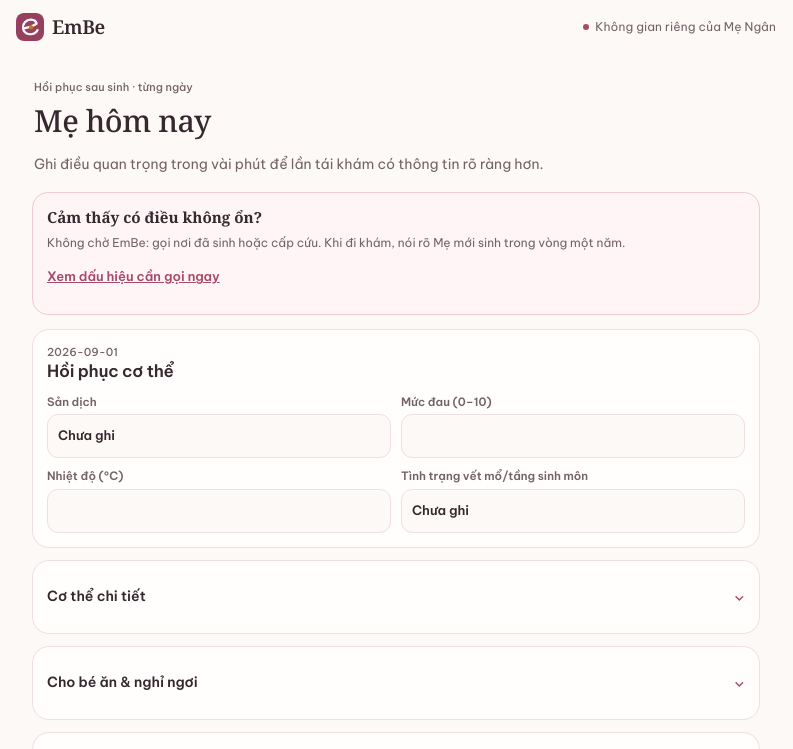
Scenario: mother postpartum page › saves one daily recovery entry
Select "Ít" in the dropdown labelled "Sản dịch" at (219, 436), box [47,414,391,458]
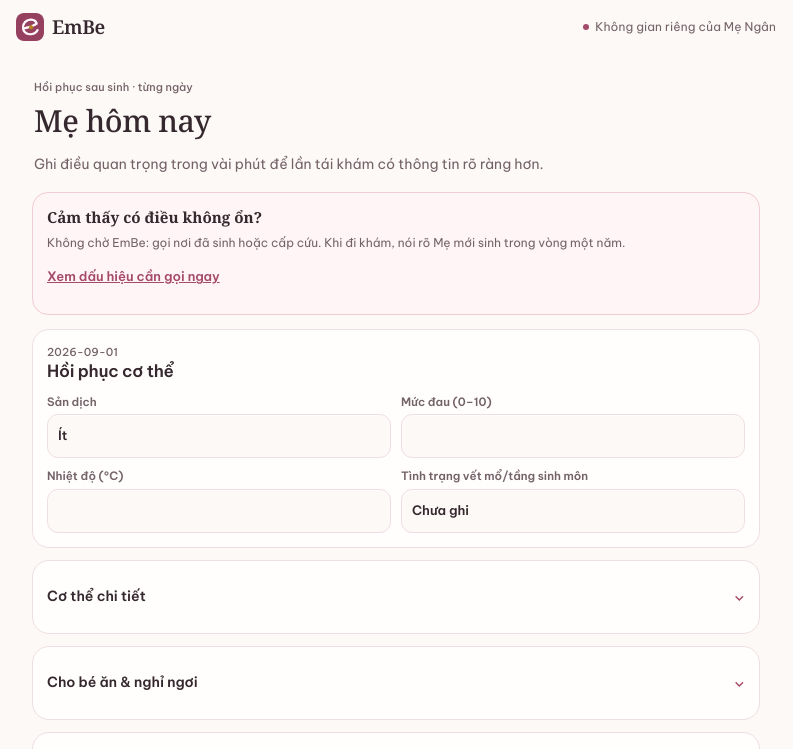
Type "2" into the number field labelled "Mức đau (0–10)".
click(573, 436); type("2")  # box [401,414,745,458]
(page scrolled)
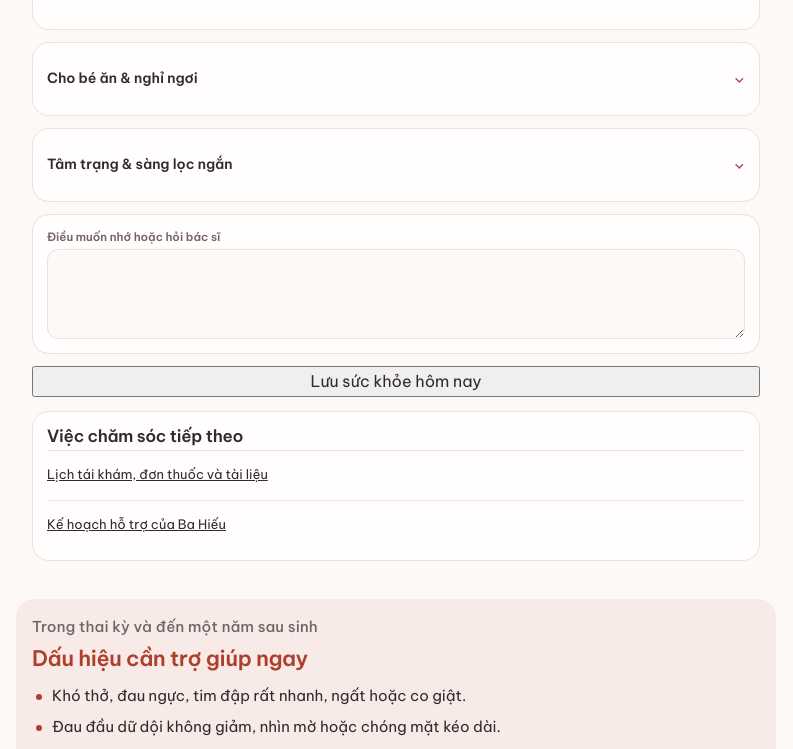
Click the button "Lưu sức khỏe hôm nay".
click(396, 382)  # box [32,366,760,397]
(page scrolled)
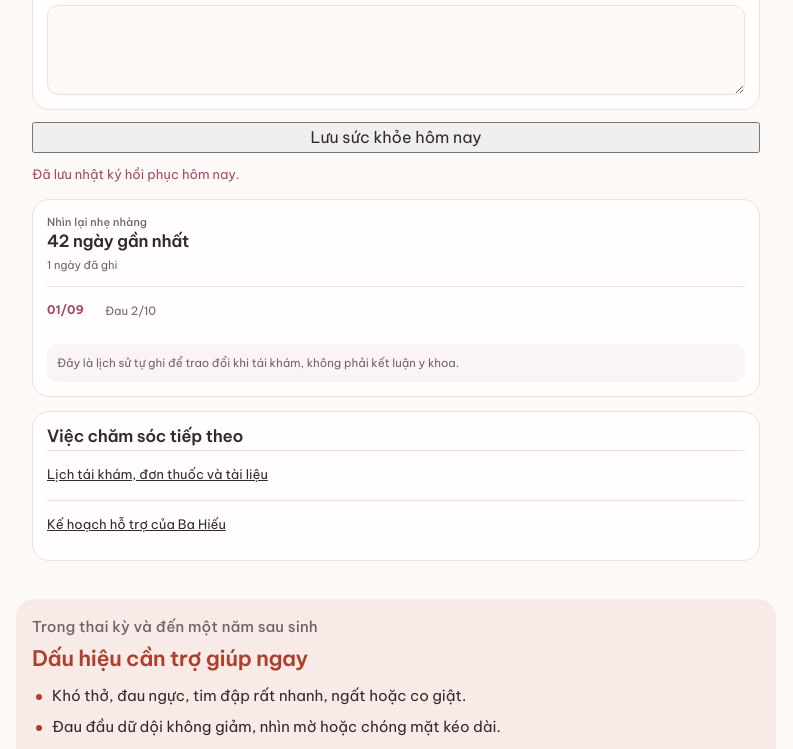
Expected: the message shows "Đã lưu nhật ký hồi phục", [32,166,240,182]
